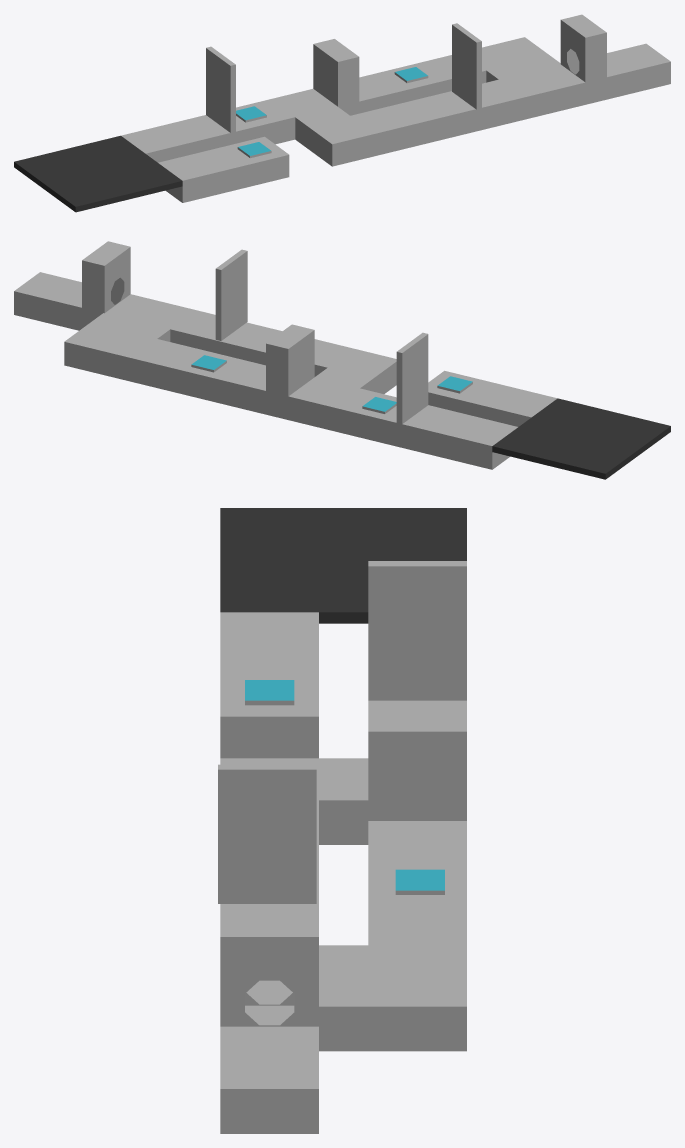
The model's file is FirstLevelFloor.fbx.
3 renders of one model, top to bottom at view 1: azimuth 30°, elevation 25°; view 2: azimuth 150°, elevation 25°; view 3: azimuth 270°, elevation 25°, orthographic. The views are drawn at different scales.
Parts seen in each view (by area): view 1: Floor, BoxBrush42, BoxBrush93, BoxBrush36, BoxBrush3, BoxBrush45, BoxBrush66, BoxBrush41, BoxBrush84, BoxBrush26, BoxBrush60, BoxBrush75 (+39 smaller); view 2: Floor, BoxBrush43, BoxBrush94, BoxBrush, BoxBrush45, BoxBrush66, BoxBrush48, BoxBrush99, BoxBrush68, BoxBrush40, BoxBrush13, BoxBrush25 (+38 smaller); view 3: Floor, BoxBrush66, BoxBrush45, BoxBrush65, BoxBrush21, BoxBrush44, BoxBrush64, BoxBrush42, BoxBrush43, BoxBrush34, BoxBrush87, BoxBrush101 (+38 smaller).
Part boxes in pixels (box(x1,y1,x2,y2)): Floor: box(14, 135, 182, 212); BoxBrush42: box(325, 48, 359, 84); BoxBrush93: box(573, 23, 606, 59); BoxBrush36: box(320, 130, 353, 166); BoxBrush3: box(170, 166, 203, 202); BoxBrush45: box(206, 46, 235, 88); BoxBrush66: box(452, 23, 481, 64); BoxBrush41: box(325, 76, 359, 106); BoxBrush84: box(532, 78, 565, 114); BoxBrush26: box(264, 108, 295, 144); BoxBrush60: box(404, 109, 437, 145); BoxBrush75: box(490, 88, 523, 124); Floor: box(492, 398, 670, 479); BoxBrush43: box(266, 334, 301, 372); BoxBrush94: box(82, 251, 117, 289); BoxBrush: box(469, 431, 505, 469); BoxBrush45: box(396, 332, 428, 376); BoxBrush66: box(215, 249, 247, 293); BoxBrush48: box(220, 370, 255, 408); BoxBrush99: box(36, 287, 71, 325); BoxBrush68: box(152, 354, 187, 392); BoxBrush40: box(266, 363, 301, 396); BoxBrush13: box(401, 414, 436, 452); BoxBrush25: box(333, 398, 366, 436); Floor: box(220, 508, 466, 623); BoxBrush66: box(218, 764, 316, 814); BoxBrush45: box(368, 561, 466, 610); BoxBrush65: box(218, 814, 316, 859); BoxBrush21: box(368, 656, 466, 700); BoxBrush44: box(368, 611, 466, 655); BoxBrush64: box(218, 859, 316, 903); BoxBrush42: box(368, 710, 417, 776); BoxBrush43: box(417, 710, 466, 776); BoxBrush34: box(319, 779, 368, 844); BoxBrush87: box(368, 986, 417, 1051); BoxBrush101: box(269, 1068, 318, 1133).
Size of what is drawn, in the model's own units: 5570 by 1010 by 800.
